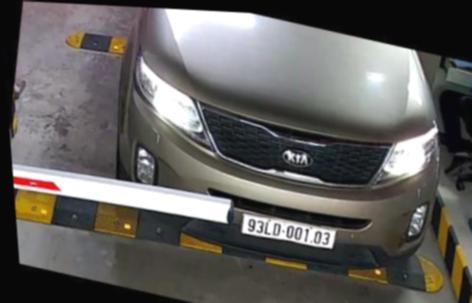License_Plate: (236, 207, 340, 255)
